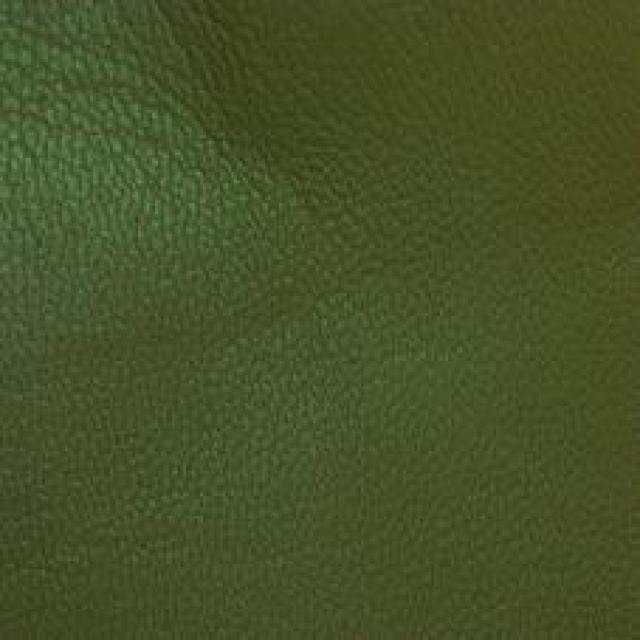Growth Marks: (66, 19, 387, 225)
